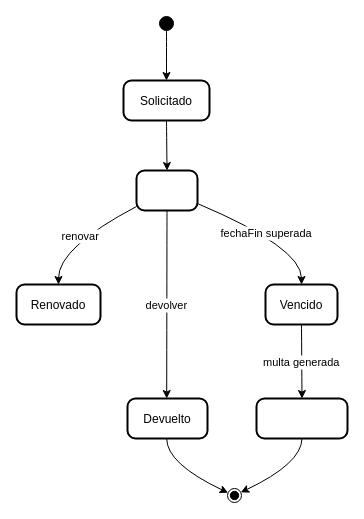
Some shapes in this 364 by 519 pixel diagram are drawn without their labels. Each missing label, with the centre of its shape:
"Activo" belongs at point 166,190.
"Bloqueado" belongs at point 301,418.
